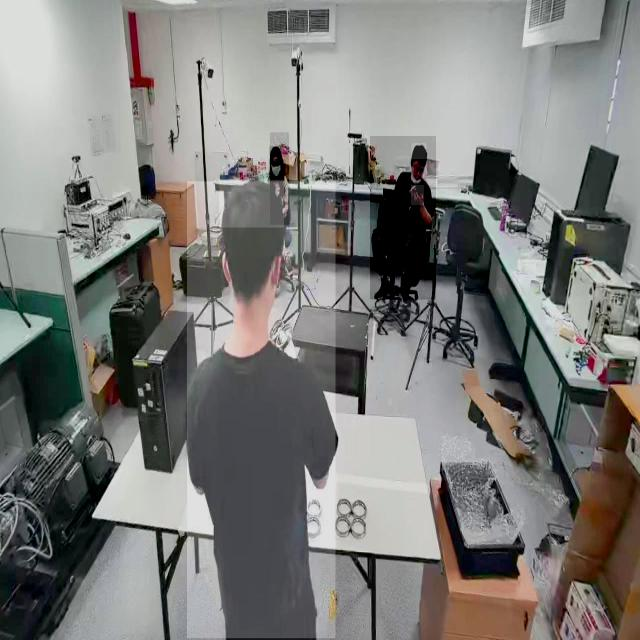face_mask: (268, 159, 286, 175)
face_nomask: (412, 162, 423, 183)
hand_noglove: (411, 185, 425, 206)
head_nohelmet: (220, 180, 284, 228), (411, 143, 427, 160), (269, 146, 281, 157)
person: (187, 181, 336, 639), (370, 136, 436, 300), (270, 132, 290, 225)
shoes: (372, 274, 392, 301)
